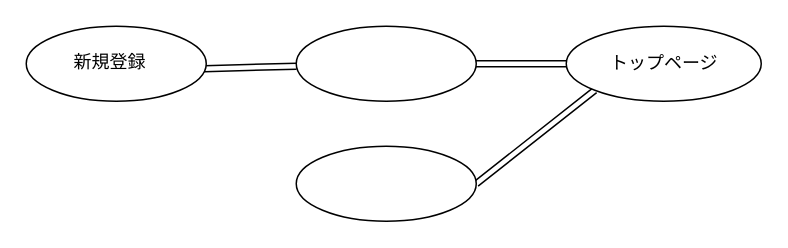
The diagram is 788 pixels wide and 248 high, and some of its shapes have lost their labels. Here are the shapes that lost their labels. From the top down, the centre of each, then its label:
At point 385,63: "ログイン".
At point 385,183: "ログアウト".
